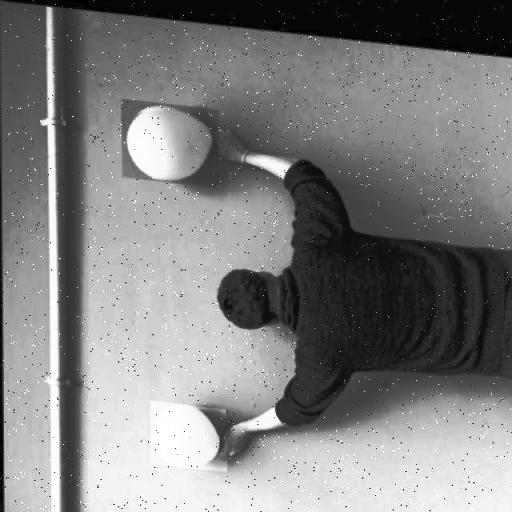balloon: (121, 96, 219, 182), (150, 397, 226, 466)
